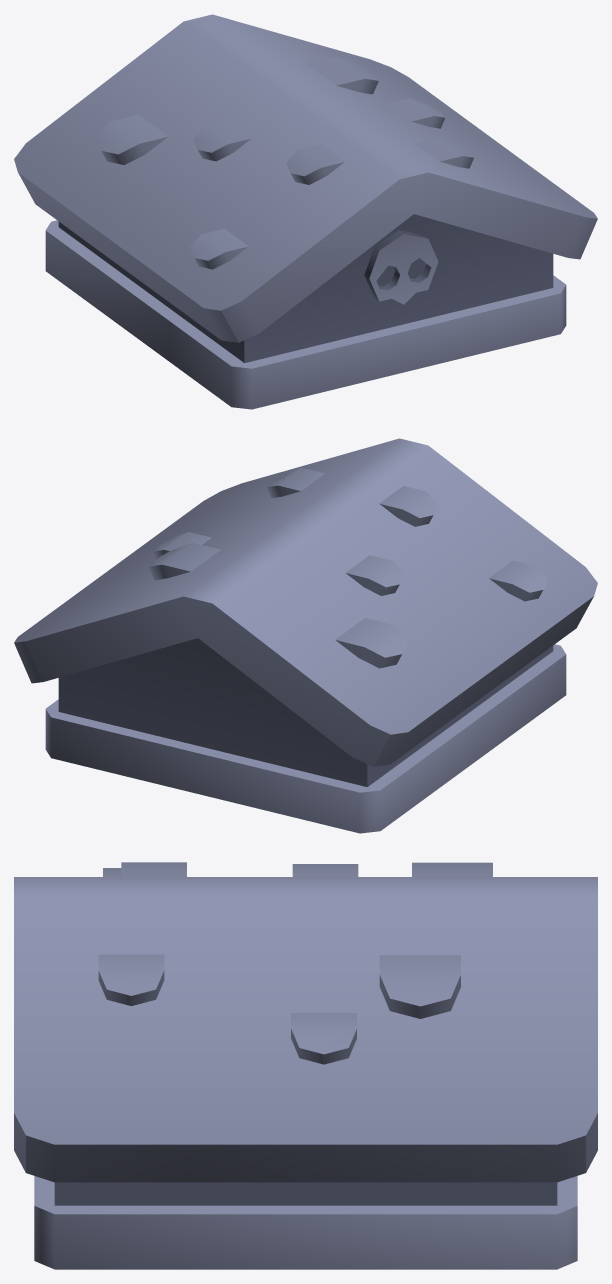
Rendered from crypt-small-roof.glb.
3 renders of one model, top to bottom at view 1: azimuth 30°, elevation 25°; view 2: azimuth 150°, elevation 25°; view 3: azimuth 270°, elevation 25°, orthographic. The views are drawn at different scales.
Visible parts, largest first — view 1: crypt-small-roof; view 2: crypt-small-roof; view 3: crypt-small-roof.
Part boxes in pixels (x1,y1,x2,y2): crypt-small-roof: (14,14,597,409); crypt-small-roof: (14,438,597,833); crypt-small-roof: (14,862,597,1269).
Bounding box in the file's own units: 1.5 × 0.74 × 1.44.
